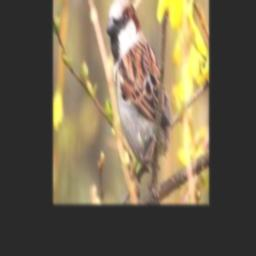Sparrow: (105, 0, 171, 180)
